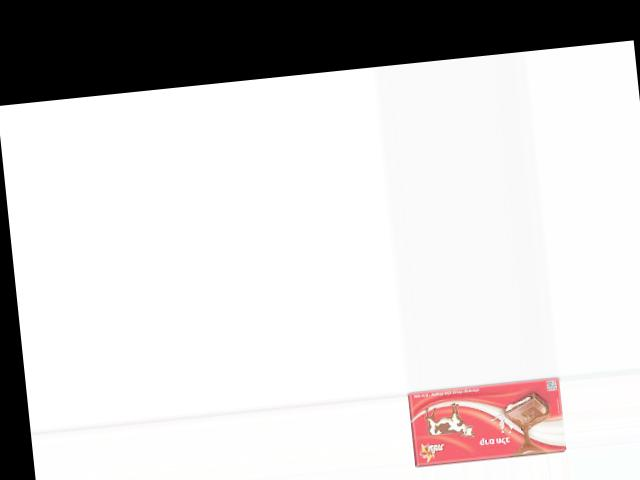chocolate: (404, 376, 566, 467)
